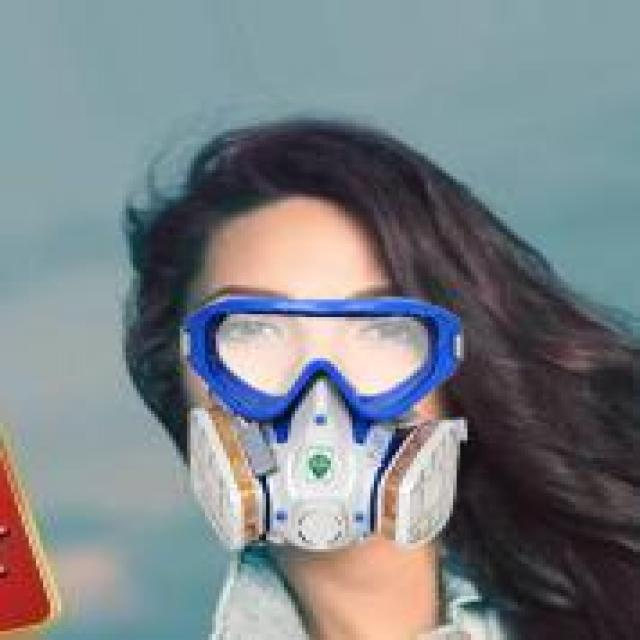mask: (154, 129, 536, 581)
